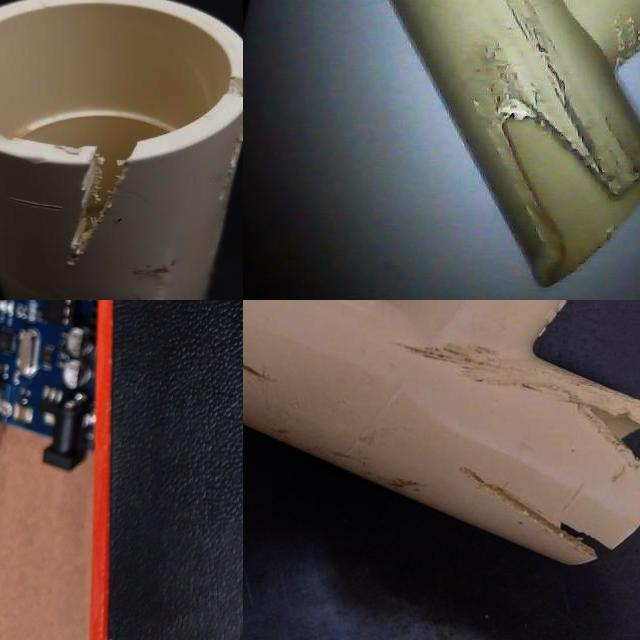Defective: (456, 456, 638, 578), (483, 97, 621, 255), (51, 124, 171, 262), (538, 367, 640, 473), (394, 326, 544, 396), (55, 359, 174, 400), (243, 300, 279, 414), (0, 3, 19, 192), (530, 300, 595, 341), (225, 77, 243, 113)
T Joint: (243, 300, 640, 567), (45, 300, 243, 501)
